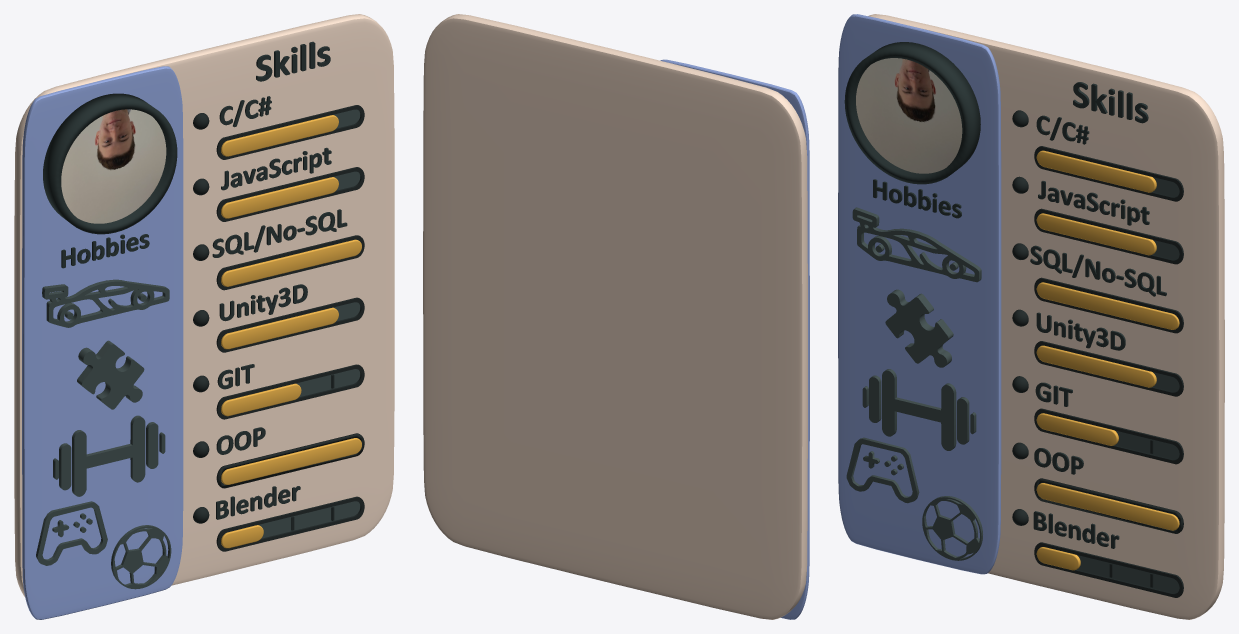
3 renders of one model, left to right at view 1: azimuth 30°, elevation 25°; view 2: azimuth 150°, elevation 25°; view 3: azimuth 330°, elevation 25°, orthographic.
Visible parts, largest first — view 1: Main_Side, Left_Side, Picture, Picture_frame, hob3, hob1, ProgressBase7, hob2, Progress3, Progress6, ProgressBase5, Progress2 (+19 smaller); view 2: Main_Side, Left_Side; view 3: Main_Side, Left_Side, Picture, Picture_frame, hob3, hob1, hob2, ProgressBase7, Progress6, Progress3, ProgressBase5, Progress4 (+19 smaller).
Part boxes in pixels (x1=…): Main_Side: x1=14, y1=14, x2=394, y2=597; Left_Side: x1=22, y1=66, x2=183, y2=619; Picture: x1=61, y1=109, x2=166, y2=223; Picture_frame: x1=43, y1=93, x2=177, y2=234; hob3: x1=53, y1=415, x2=165, y2=496; hob1: x1=42, y1=279, x2=169, y2=327; ProgressBase7: x1=216, y1=496, x2=364, y2=551; hob2: x1=77, y1=340, x2=144, y2=409; Progress3: x1=221, y1=239, x2=361, y2=286; Progress6: x1=221, y1=438, x2=361, y2=484; ProgressBase5: x1=216, y1=364, x2=364, y2=419; Progress2: x1=221, y1=177, x2=338, y2=218; Main_Side: x1=423, y1=14, x2=807, y2=619; Left_Side: x1=660, y1=59, x2=809, y2=619; Main_Side: x1=868, y1=14, x2=1224, y2=619; Left_Side: x1=838, y1=14, x2=1001, y2=574; Picture: x1=856, y1=58, x2=962, y2=173; Picture_frame: x1=844, y1=42, x2=980, y2=184; hob3: x1=862, y1=369, x2=976, y2=450; hob1: x1=852, y1=207, x2=981, y2=282; hob2: x1=885, y1=289, x2=953, y2=367; ProgressBase7: x1=1034, y1=542, x2=1183, y2=597; Progress6: x1=1036, y1=483, x2=1179, y2=530; Progress3: x1=1036, y1=282, x2=1179, y2=329; ProgressBase5: x1=1034, y1=408, x2=1183, y2=464; Progress4: x1=1036, y1=345, x2=1156, y2=387.
Bounding box in the file's own units: 3 × 4 × 0.2948.
Materials: 7 (1 with a texture image).
